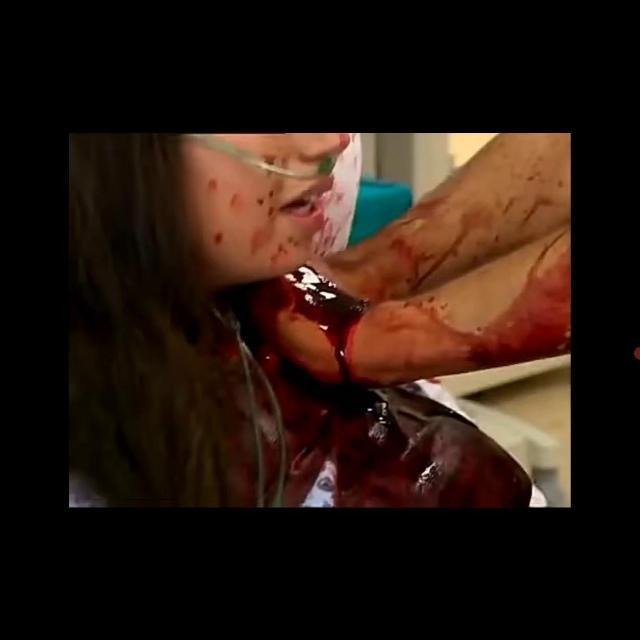blood: (180, 132, 571, 506)
